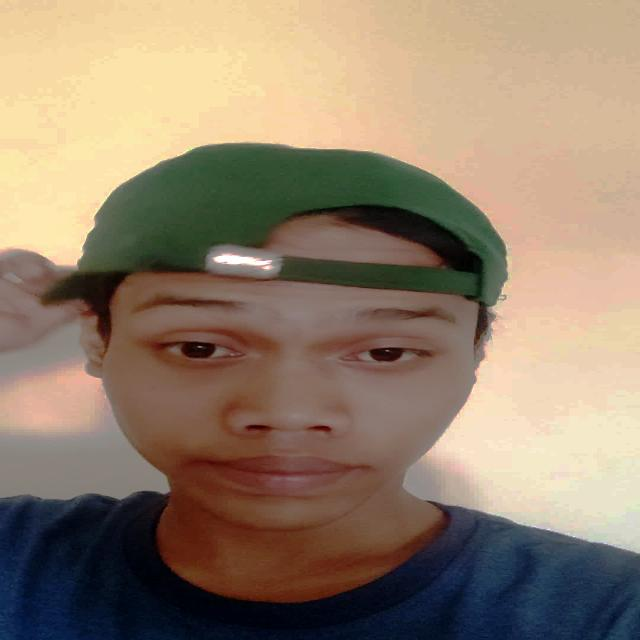TOPI: (46, 137, 516, 318)
